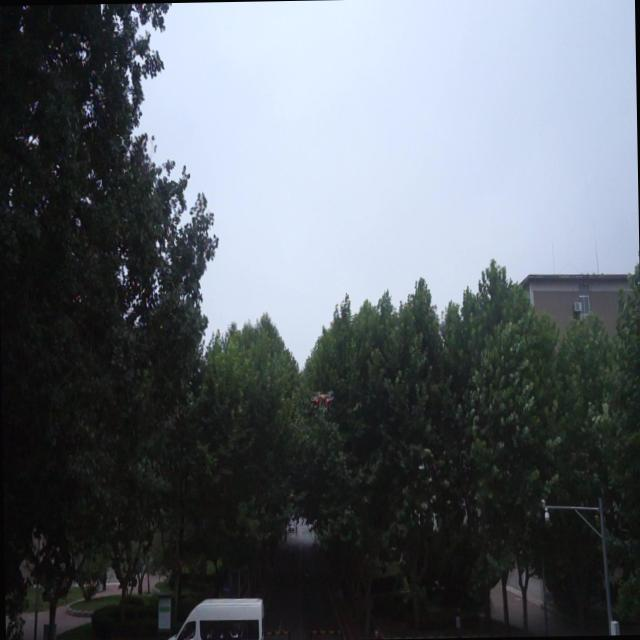drone: (308, 382, 338, 416)
